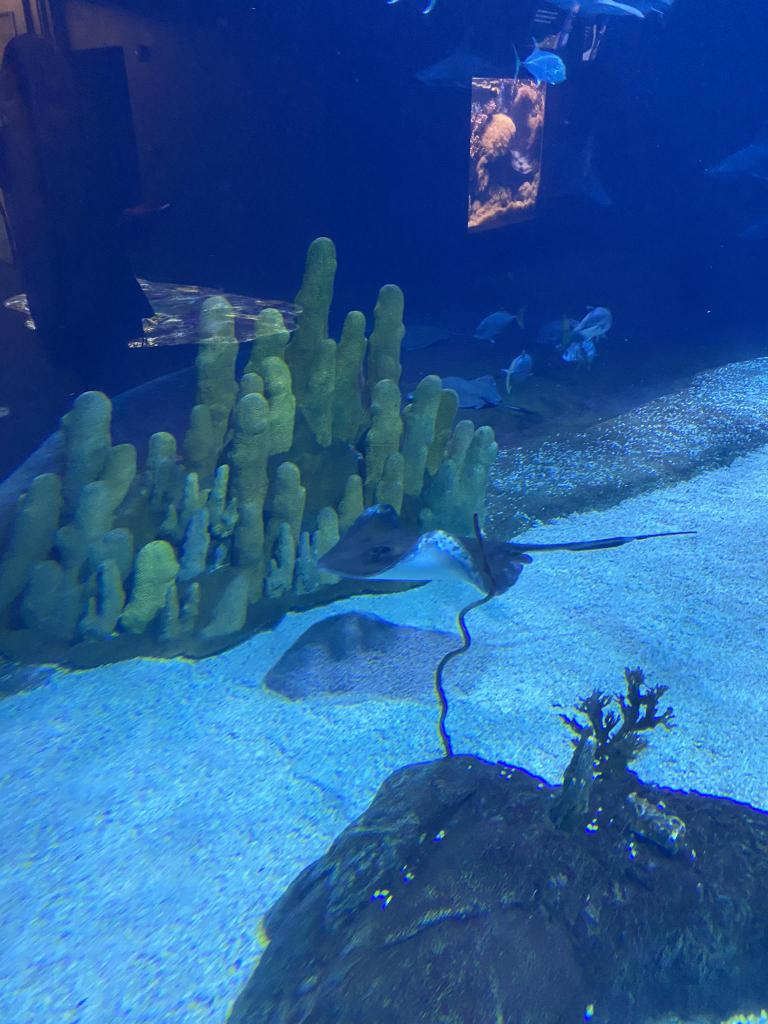fish: (508, 44, 572, 90), (568, 306, 618, 344), (478, 313, 526, 341), (498, 358, 536, 392)
stingray: (333, 506, 533, 598)
